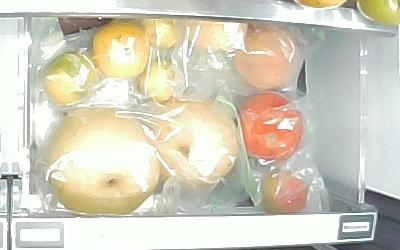peach_vinyl: (232, 21, 305, 90)
pear_vinyl: (45, 107, 157, 216), (149, 100, 239, 188)
tangerine_vinyl: (91, 21, 148, 77), (42, 52, 98, 105), (137, 57, 184, 102), (143, 17, 183, 50)
tomato_vinyl: (236, 92, 305, 163), (261, 169, 311, 215)
